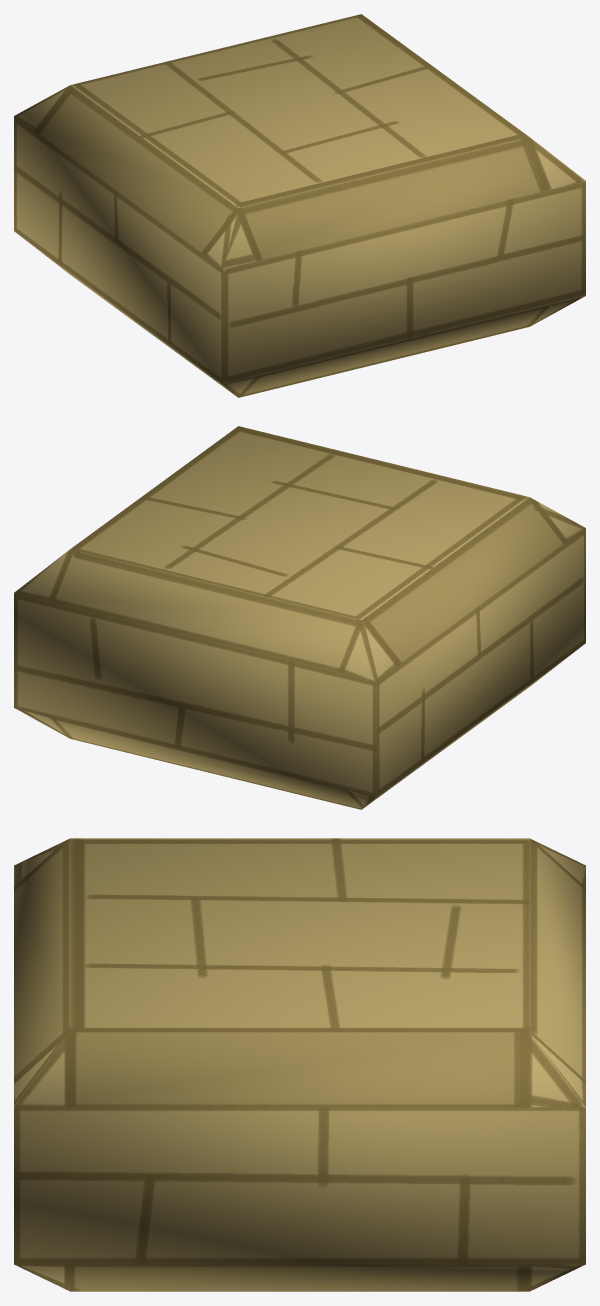
The model's file is blockPlatformWood.obj.
3 views of the same model, one above another, from view 1: azimuth 30°, elevation 25°; view 2: azimuth 150°, elevation 25°; view 3: azimuth 270°, elevation 25° (orthographic). The views are drawn at different scales.
Parts seen in each view (by area): view 1: blockPlatformGrass; view 2: blockPlatformGrass; view 3: blockPlatformGrass.
Boxes of the visible parts, <box> form: blockPlatformGrass: <box>14,14,585,397</box>; blockPlatformGrass: <box>14,426,585,809</box>; blockPlatformGrass: <box>14,838,585,1291</box>.
Size of the model in its own units: 1 by 0.5 by 1.
1 material, 1 textured.
